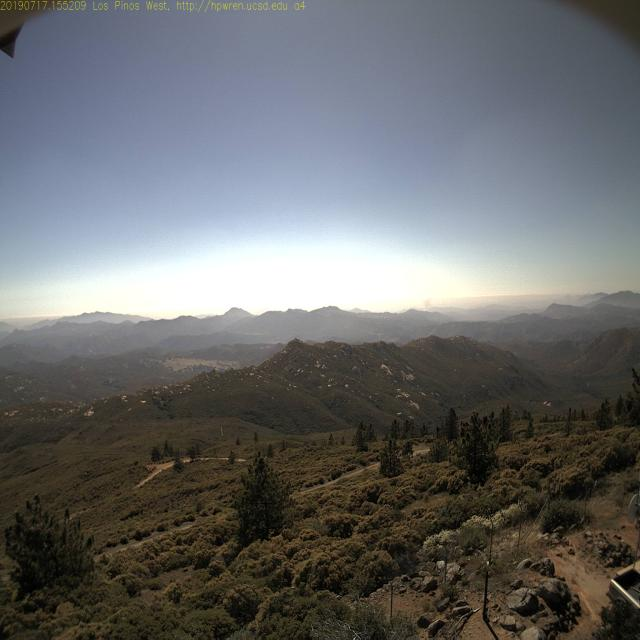smoke: (418, 297, 434, 317)
